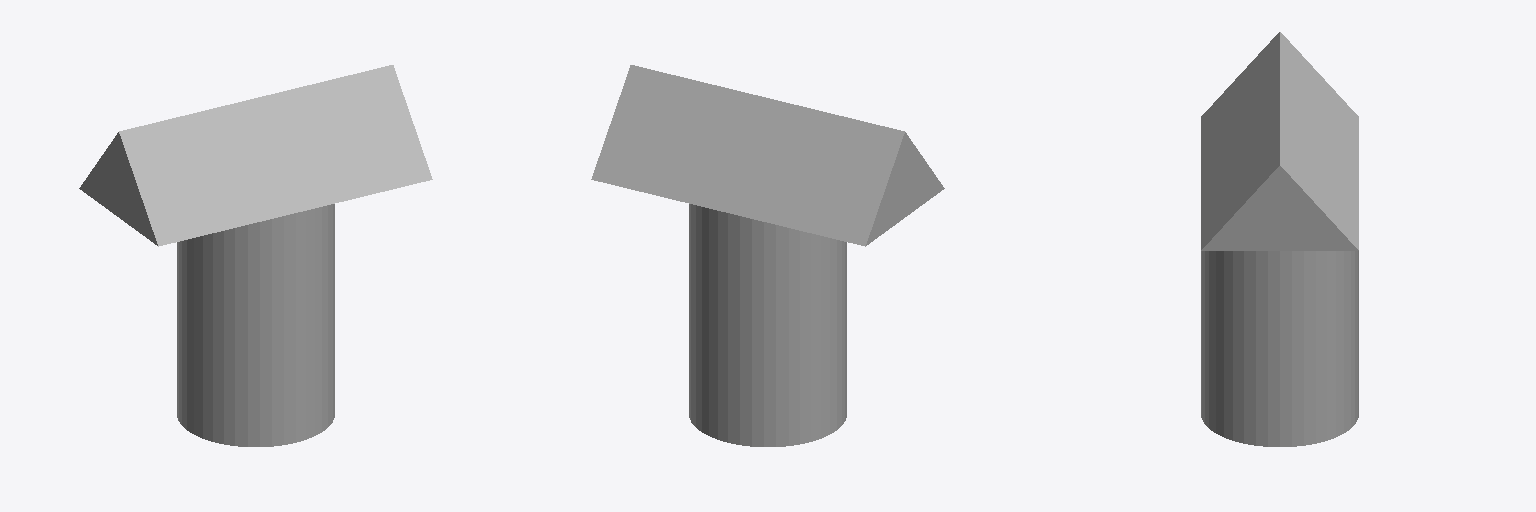
File: rotator_sharp.obj
3 renders of one model, left to right at view 1: azimuth 30°, elevation 25°; view 2: azimuth 150°, elevation 25°; view 3: azimuth 270°, elevation 25°, orthographic.
Visible parts, largest first — view 1: rotator_sharp; view 2: rotator_sharp; view 3: rotator_sharp.
Part boxes in pixels (bbox=[...]): rotator_sharp: bbox=[79, 65, 432, 446]; rotator_sharp: bbox=[591, 65, 944, 446]; rotator_sharp: bbox=[1201, 32, 1358, 446].
Size of the model in its own units: 0.1 by 0.11 by 0.05.